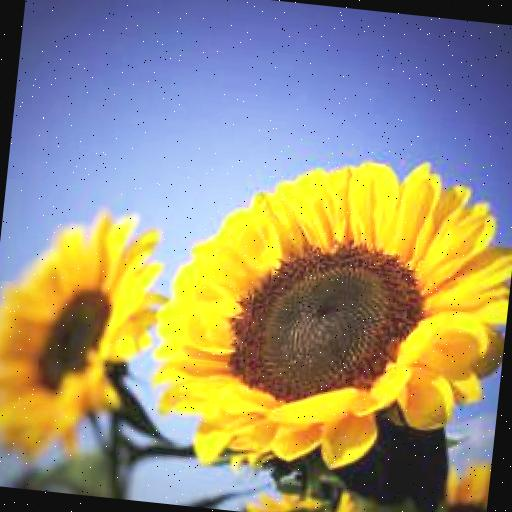sunflower: (0, 194, 171, 473)
